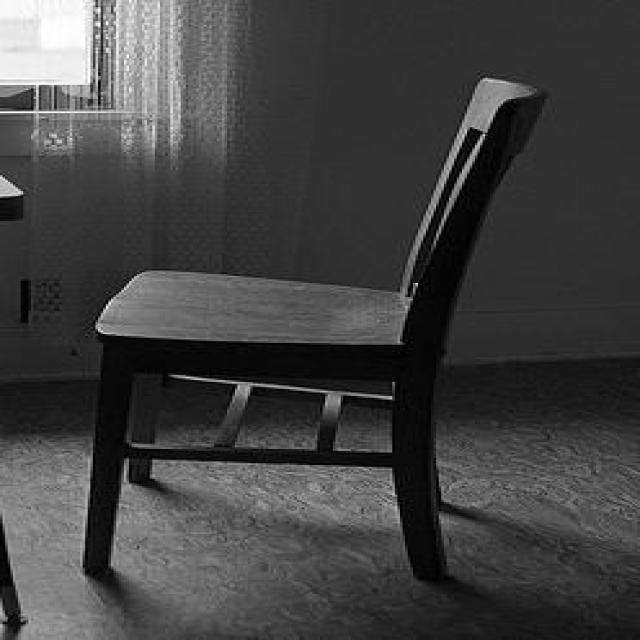chair: (80, 74, 547, 582)
